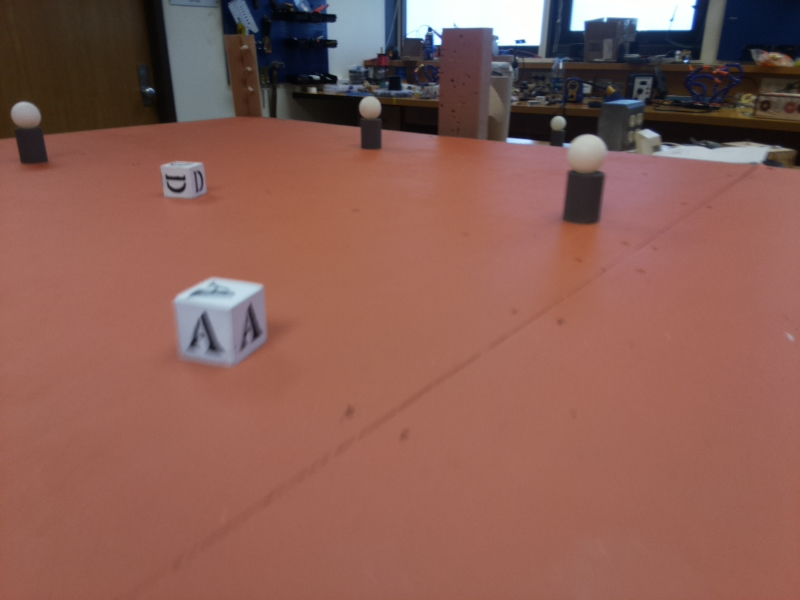blockA: (174, 273, 269, 372)
blockD: (158, 157, 213, 204)
corner: (230, 34, 260, 119)
obstacle: (561, 134, 613, 225), (10, 98, 53, 169), (355, 96, 385, 151)
